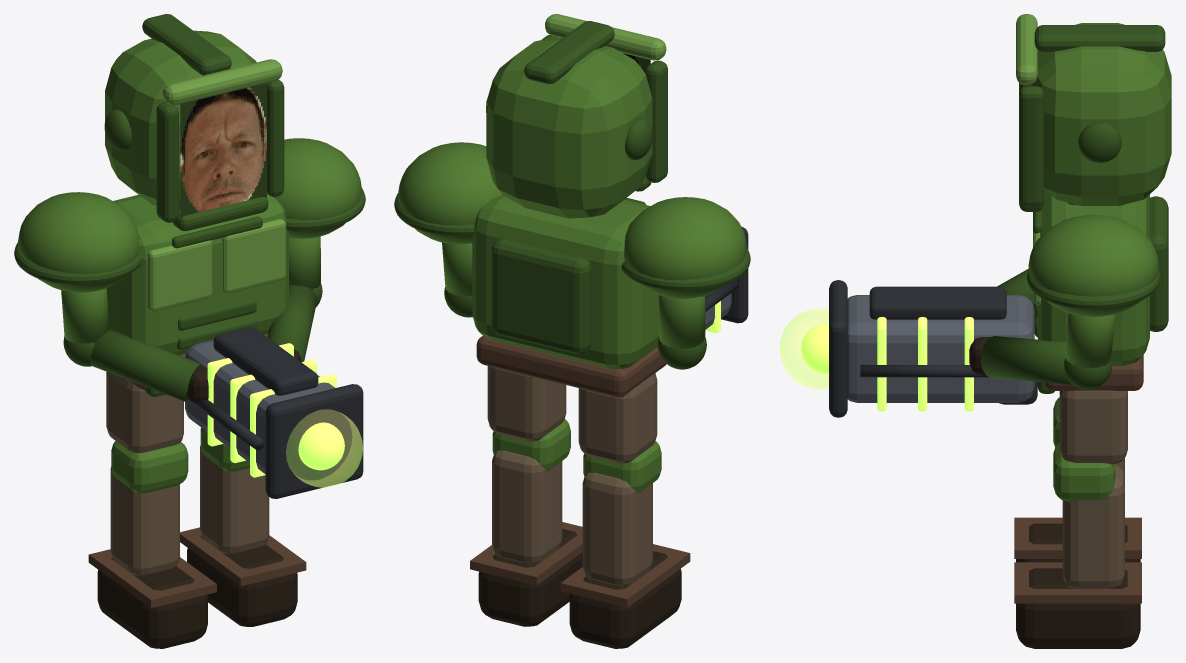
The model's file is doom-dad.glb.
The picture shows the model from 3 angles, left to right: view 1: azimuth 30°, elevation 25°; view 2: azimuth 150°, elevation 25°; view 3: azimuth 270°, elevation 25°; orthographic projection. The views are drawn at different scales.
Parts seen in each view (by area): view 1: Doom Dad; view 2: Doom Dad; view 3: Doom Dad.
Part boxes in pixels (<box>): Doom Dad: <box>14,14,365,648</box>; Doom Dad: <box>394,14,750,648</box>; Doom Dad: <box>779,14,1171,648</box>.
Bounding box in the file's own units: 1.27 × 2.08 × 1.26.
Materials: 12 (1 with a texture image).
